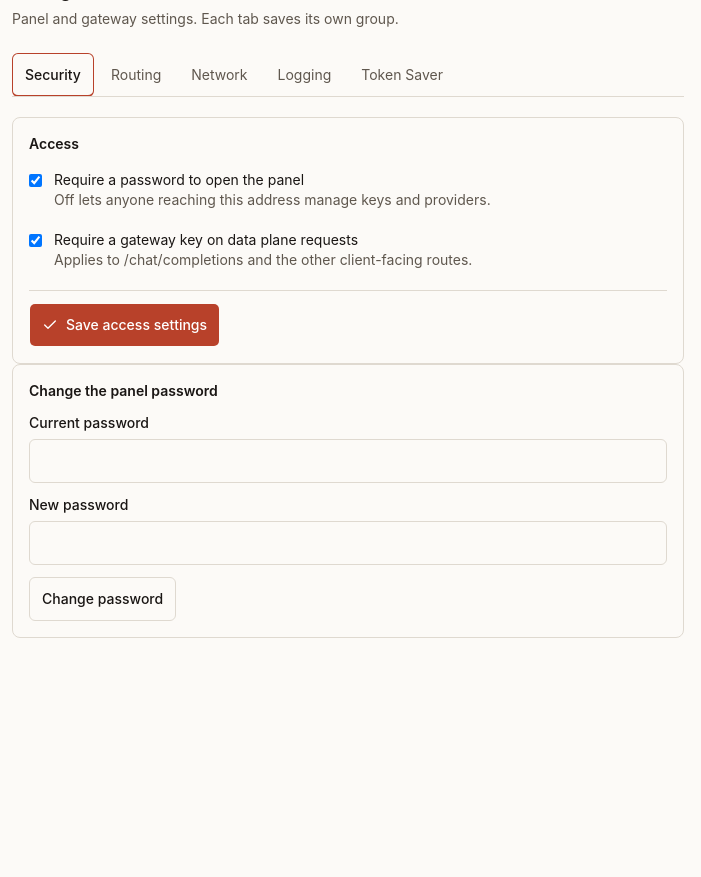
Test case: the routing tab failure-class editor › refuses a ceiling past the bound without sending anything
The width and height of the screenshot is (701, 877).
Expected: the element showing "Security Routing Network Logging Token Saver" is shown, [12,53,684,97]
Step 1. Click the tab "Routing" → [136, 75], box [98,53,174,97]
(page scrolled)
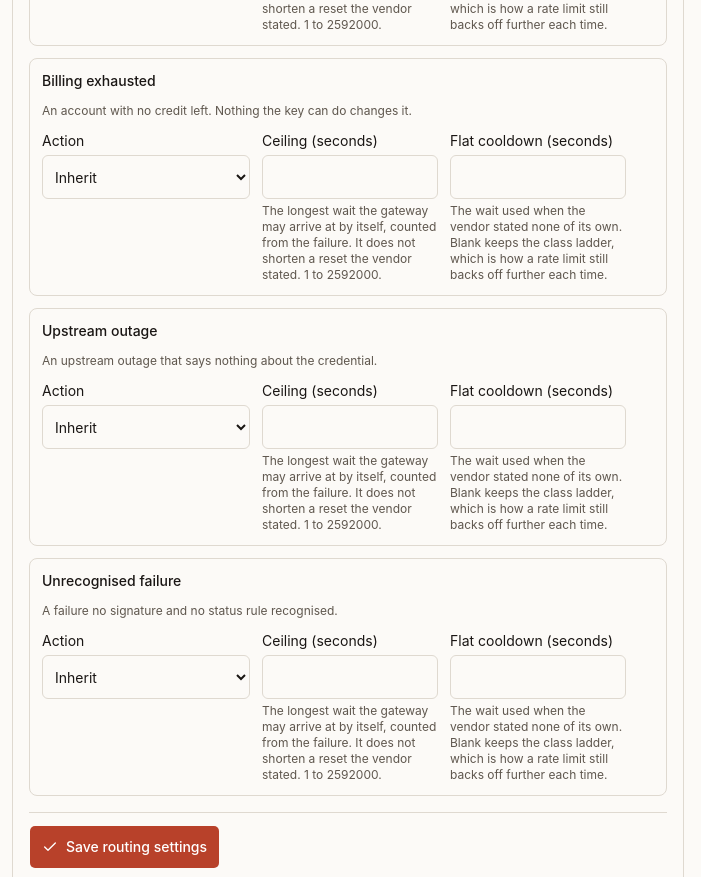
Step 2. Type "2592001" into the 2nd number field labelled "Ceiling (seconds)" → [350, 427], box [262,405,438,449]
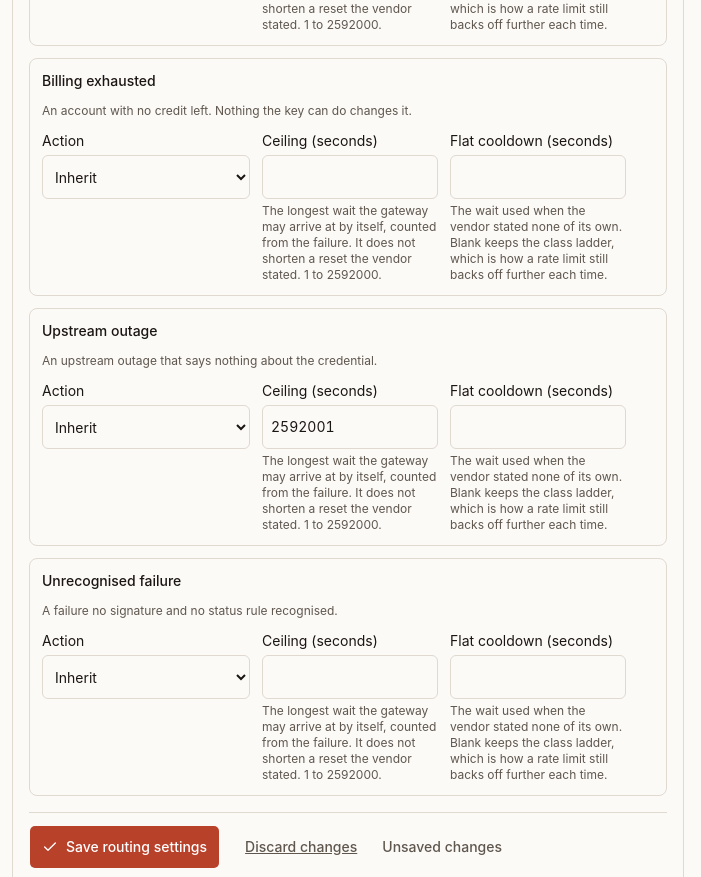
Step 3. Click the button "Save routing settings" → [125, 847], box [29,825,220,869]
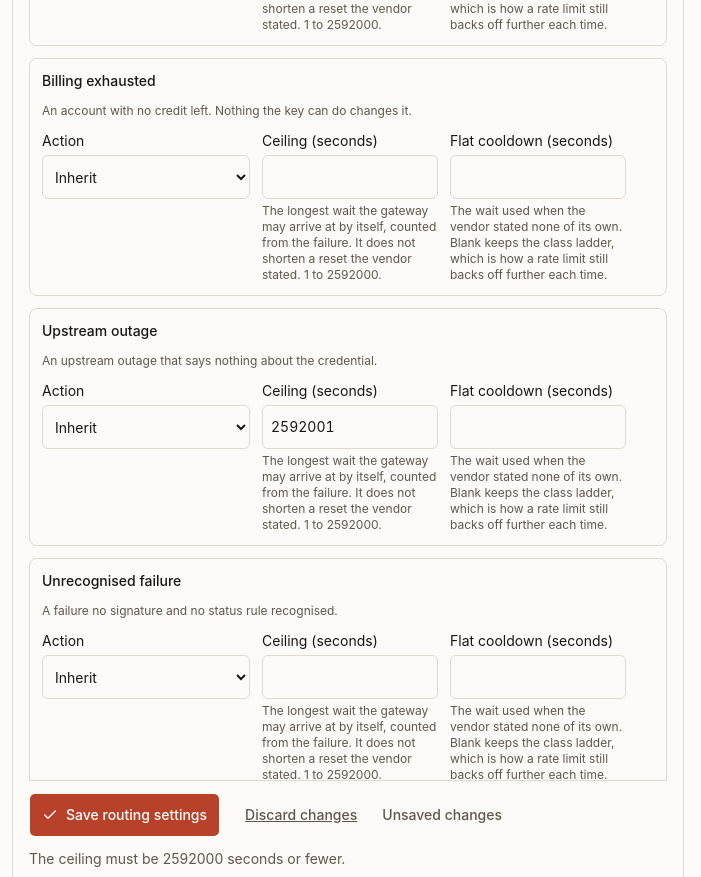
Result: the text "The ceiling must be 2592000 seconds or fewer." is shown at [29,850,345,867]
